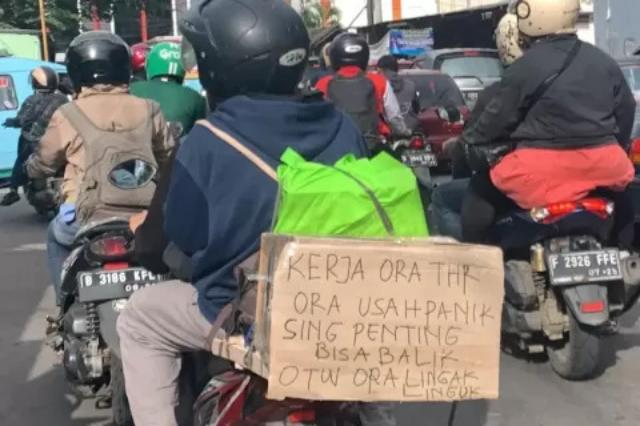helm: (174, 2, 316, 115), (65, 31, 138, 94), (514, 2, 589, 43), (493, 15, 539, 66), (328, 32, 372, 75), (29, 66, 60, 97)
motor: (158, 300, 486, 426), (473, 180, 640, 386), (55, 218, 171, 426)
